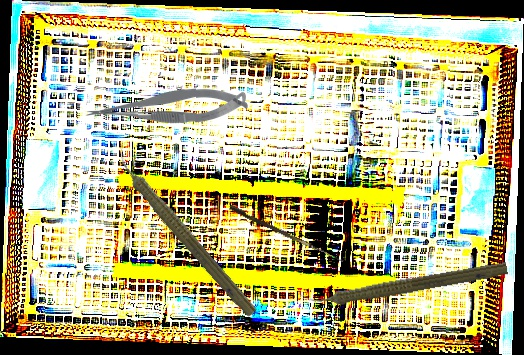Handpiece: (104, 141, 264, 321), (298, 254, 509, 314)
Hook Surgical: (228, 204, 346, 263)
Micro Scissor: (84, 85, 250, 126)
